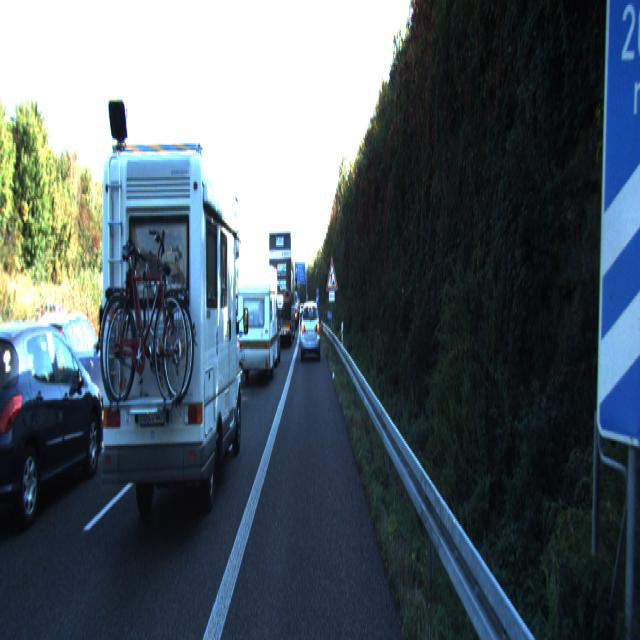Car: (100, 146, 246, 548), (0, 319, 106, 542), (28, 314, 112, 432), (237, 257, 278, 385), (270, 229, 296, 345), (300, 298, 320, 359)
